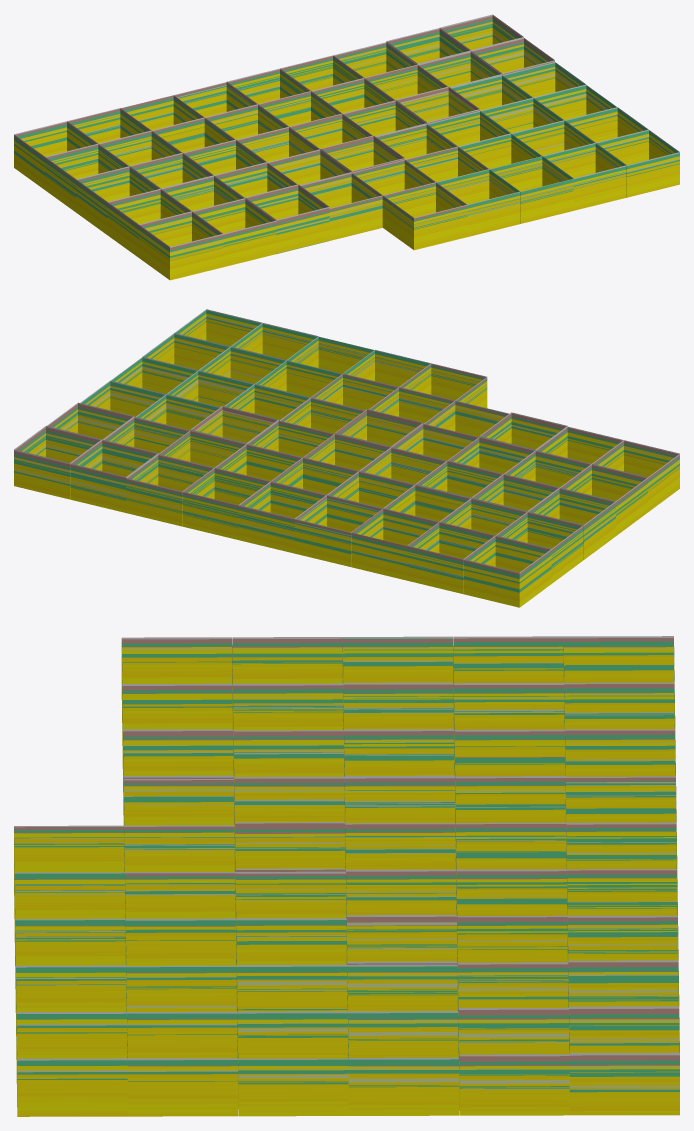
3 views of the same model, one above another, from view 1: azimuth 30°, elevation 25°; view 2: azimuth 150°, elevation 25°; view 3: azimuth 270°, elevation 25° (orthographic). The views are drawn at different scales.
Parts seen in each view (by area): view 1: mesh; view 2: mesh; view 3: mesh.
Boxes of the visible parts, bbox=[...] form: mesh: bbox=[14, 14, 679, 280]; mesh: bbox=[14, 309, 679, 607]; mesh: bbox=[14, 636, 679, 1116].
Size of what is drawn, in the model's own units: 1475 by 102 by 987.
